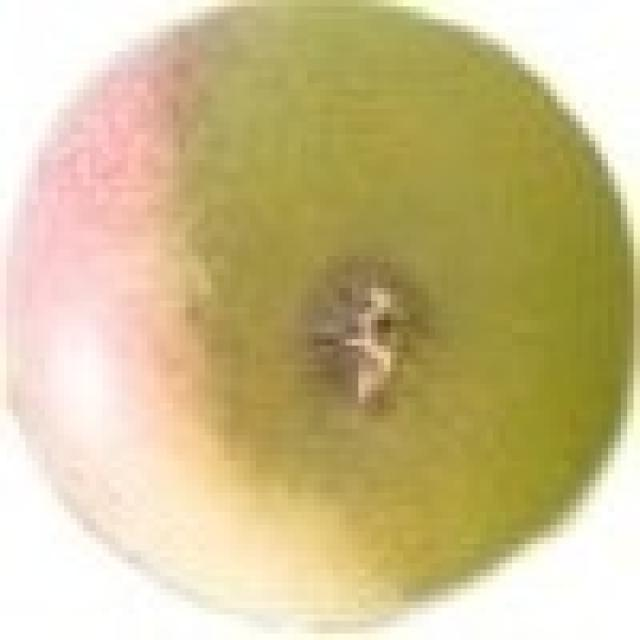50-_ripeness: (0, 4, 626, 620)
